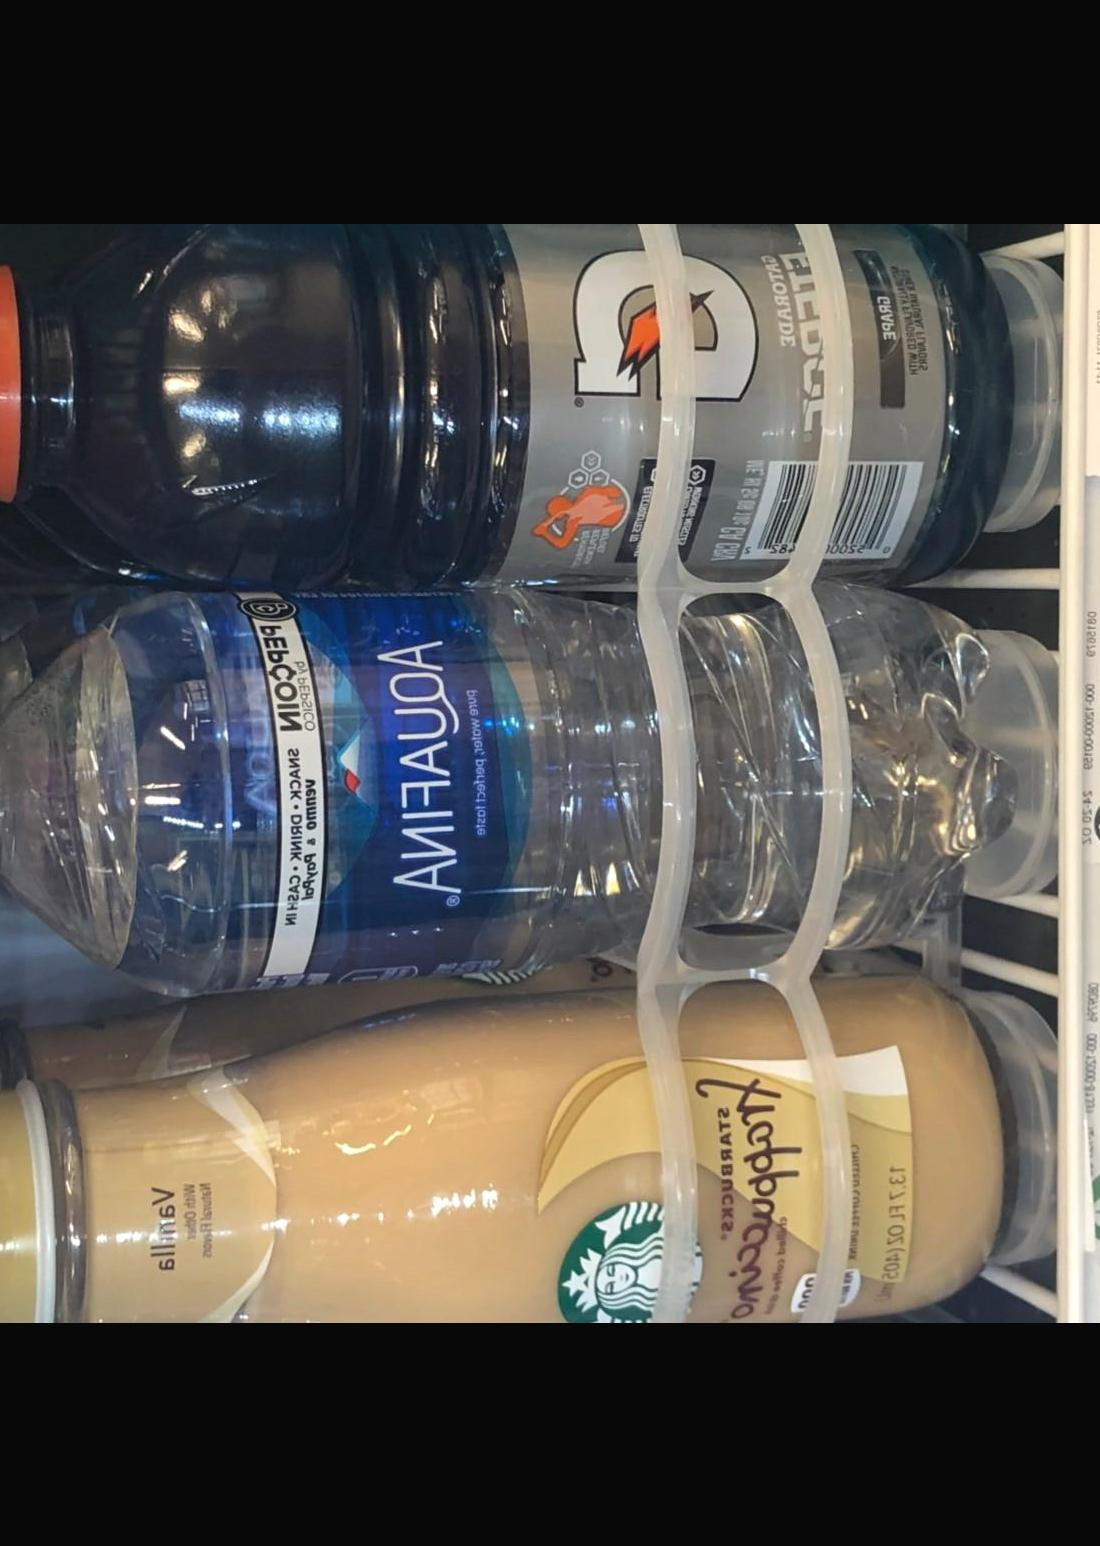bottle: (0, 596, 1029, 977), (0, 223, 1029, 582), (0, 981, 1019, 1323)
